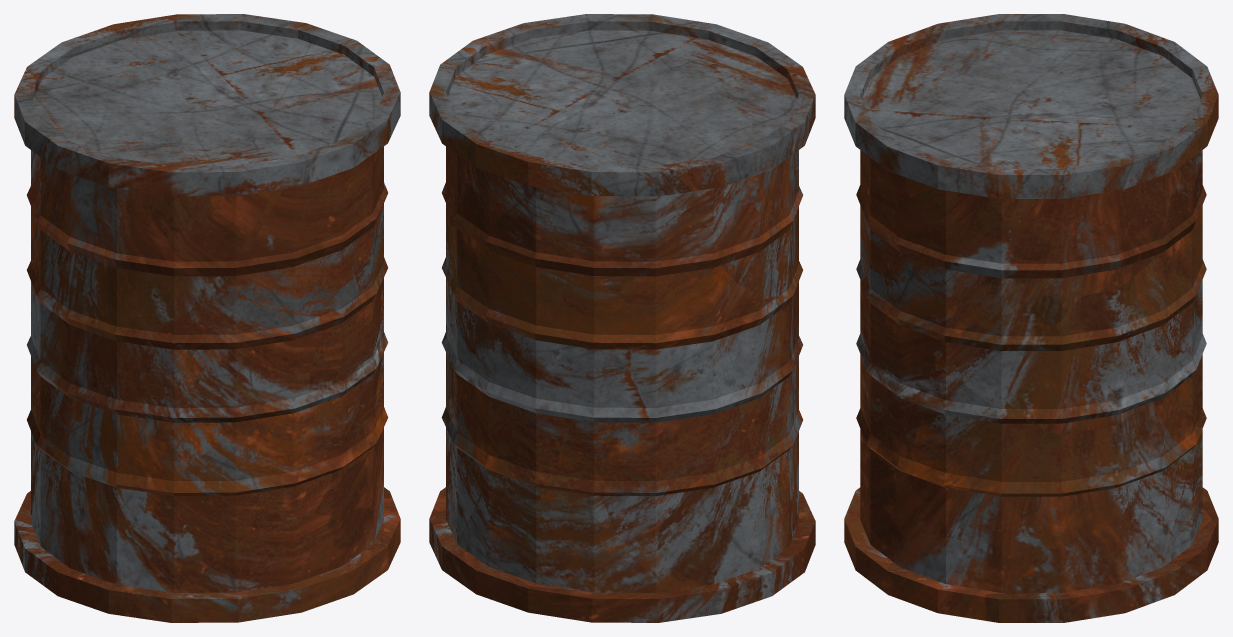
The model's file is 1kLowPolyRusty.glb.
The picture shows the model from 3 angles, left to right: view 1: azimuth 30°, elevation 25°; view 2: azimuth 150°, elevation 25°; view 3: azimuth 270°, elevation 25°; orthographic projection.
Parts seen in each view (by area): view 1: LowPolyRusty; view 2: LowPolyRusty; view 3: LowPolyRusty.
Part boxes in pixels (x1,y1,x2,y2): LowPolyRusty: (14,14,400,622); LowPolyRusty: (429,14,815,622); LowPolyRusty: (844,14,1218,622).
Bounding box in the file's own units: 0.715 × 0.9268 × 0.7022.
1 material, 1 textured.
